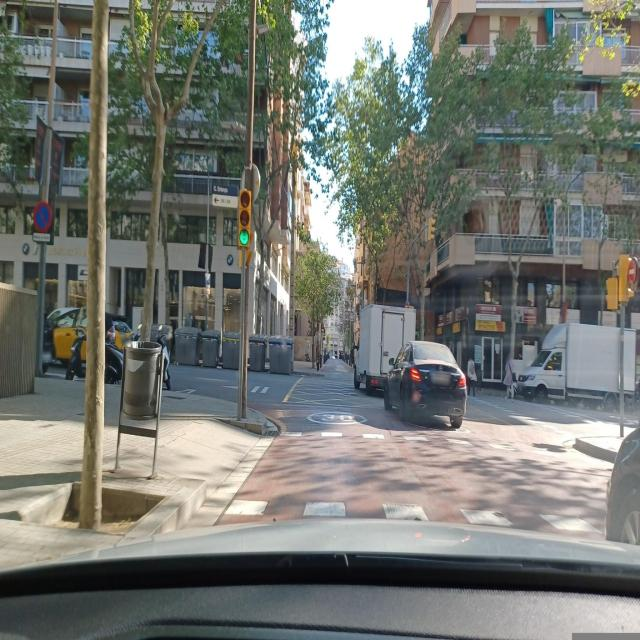forb_stopping: (34, 201, 53, 232)
